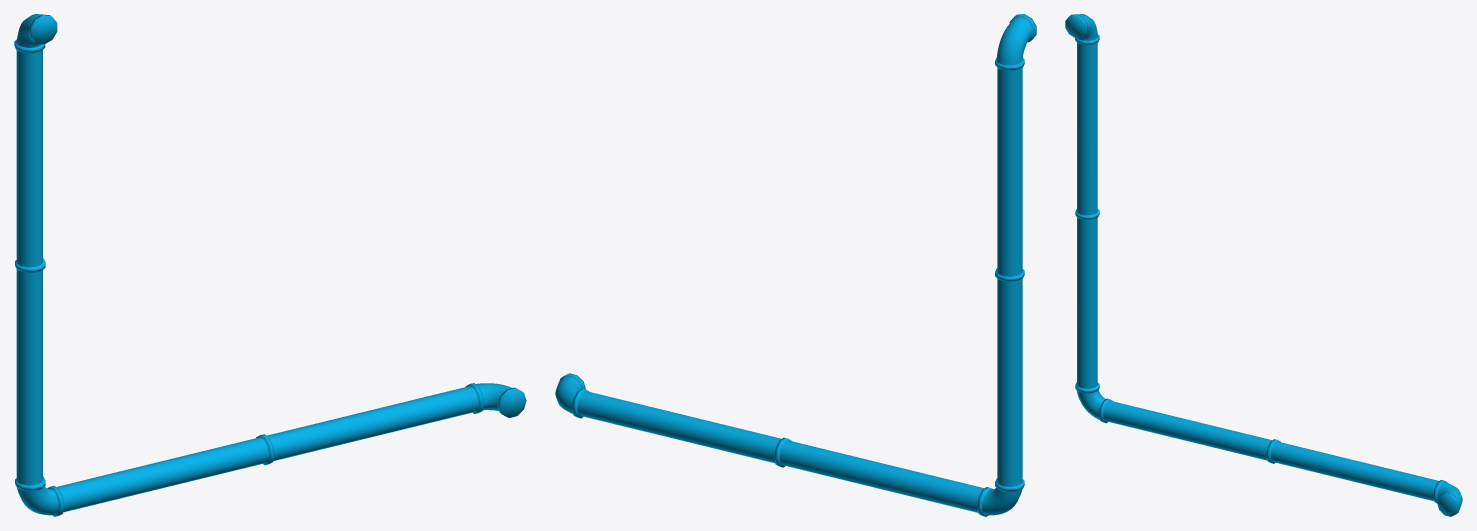
The model's file is Factory_Pipe_05_Lod0.fbx.
3 renders of one model, left to right at view 1: azimuth 30°, elevation 25°; view 2: azimuth 150°, elevation 25°; view 3: azimuth 330°, elevation 25°, orthographic. The views are drawn at different scales.
Parts seen in each view (by area): view 1: Factory_Pipe_05_Lod0; view 2: Factory_Pipe_05_Lod0; view 3: Factory_Pipe_05_Lod0.
Boxes of the visible parts, x1=… form: Factory_Pipe_05_Lod0: x1=14, y1=14, x2=526, y2=516; Factory_Pipe_05_Lod0: x1=555, y1=14, x2=1036, y2=516; Factory_Pipe_05_Lod0: x1=1065, y1=14, x2=1462, y2=516.
Bounding box in the file's own units: 745 × 741 × 60.21.
